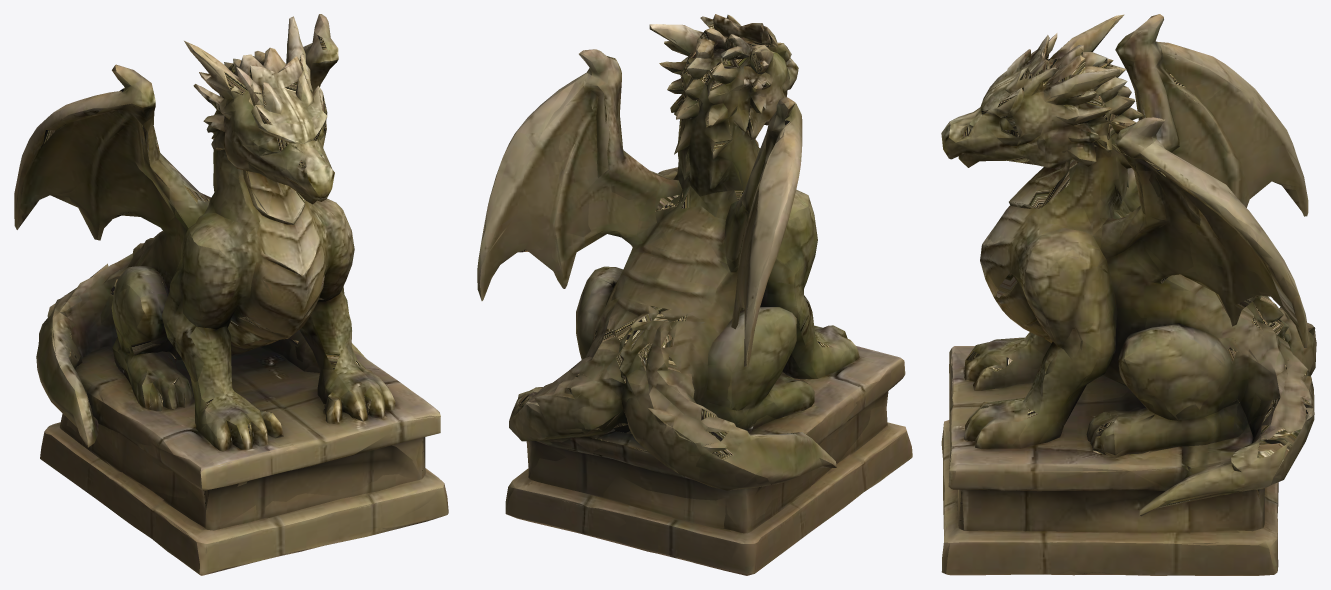
File: temple_fire_statue.glb
3 views of the same model, side by side, from view 1: azimuth 30°, elevation 25°; view 2: azimuth 150°, elevation 25°; view 3: azimuth 270°, elevation 25° (orthographic). The views are drawn at different scales.
Visible parts, largest first — view 1: turn, mesh_lod; view 2: turn, mesh_lod; view 3: turn, mesh_lod.
Part boxes in pixels (x1,y1,x2,y2): turn: [14, 14, 448, 575]; mesh_lod: [14, 14, 444, 572]; turn: [477, 14, 912, 575]; mesh_lod: [480, 15, 910, 575]; turn: [941, 14, 1316, 575]; mesh_lod: [941, 14, 1314, 574].
Bounding box in the file's own units: 1.99 × 3 × 2.15.
1 material, 1 textured.
